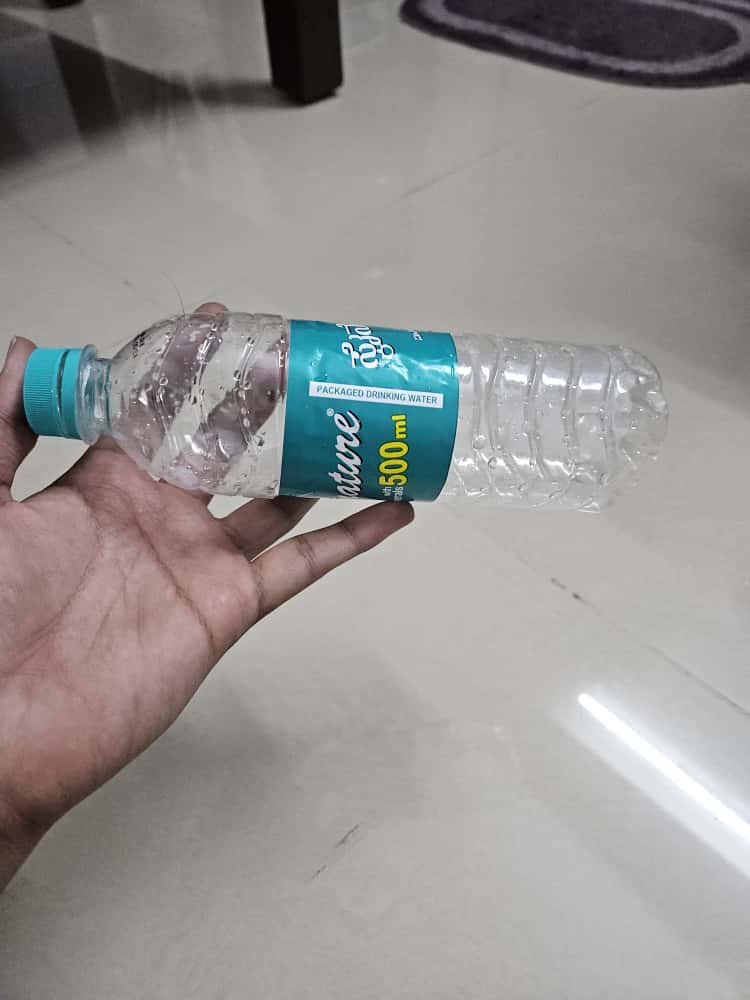dry: (14, 300, 695, 528)
